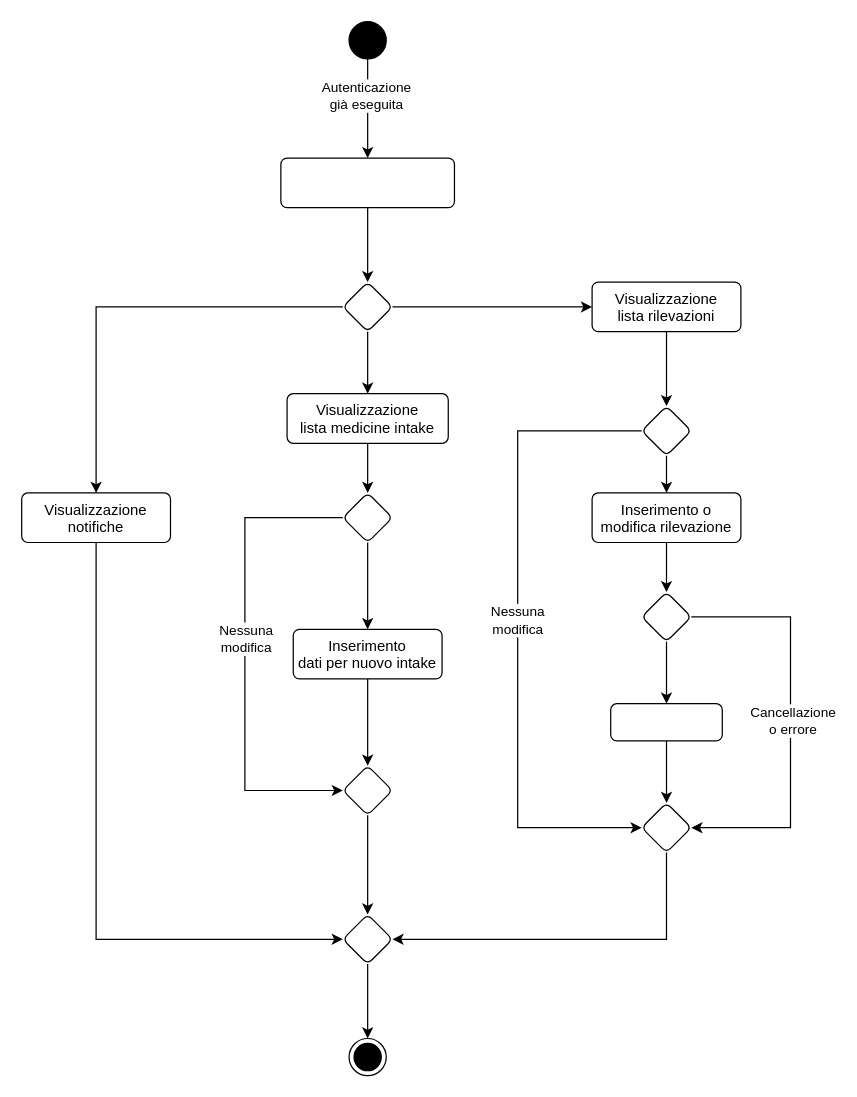
The diagram is 857 pixels wide and 1097 high, and some of its shapes have lost their labels. The shapes that lost their labels are listed below. From the top down, each one's box as (x1, y1, x2, y2) in pixels, then its label:
(280, 157, 454, 208): Visualizzazione pagina home
(609, 702, 722, 741): Conferma
